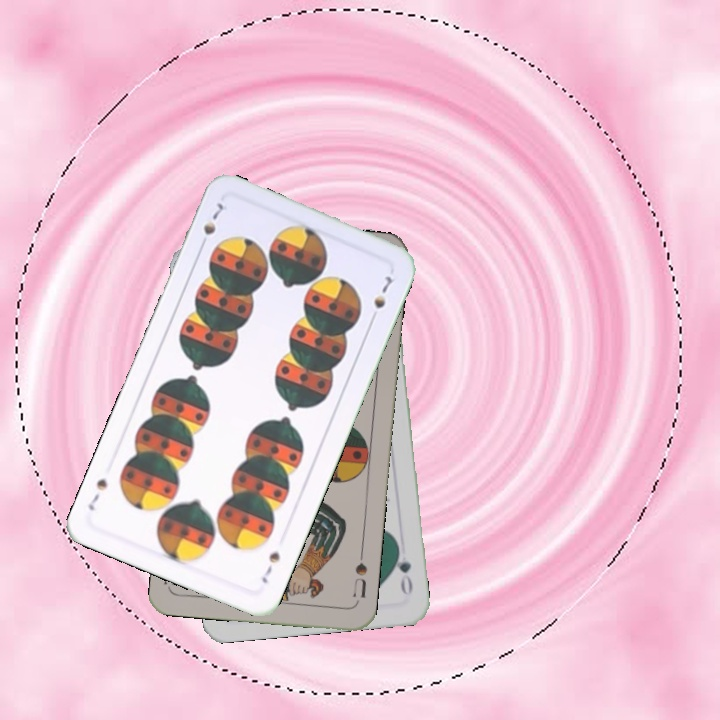GO: (391, 541, 415, 598)
S7: (195, 195, 230, 252), (257, 548, 283, 586)
SU: (348, 547, 370, 600)
